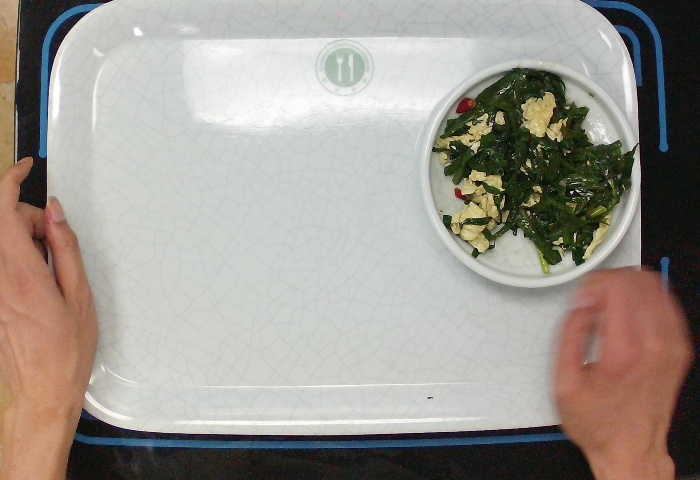JYsf-Xiao_Yuan_Pan: (406, 54, 648, 290)
